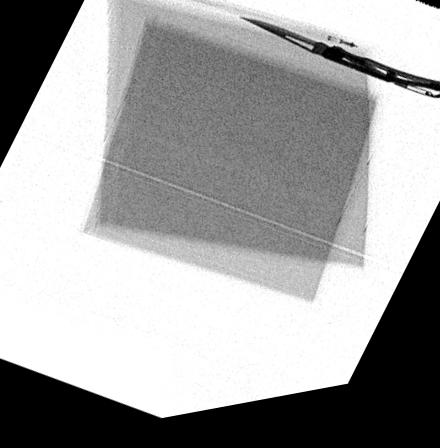Knife: (237, 25, 440, 115)
